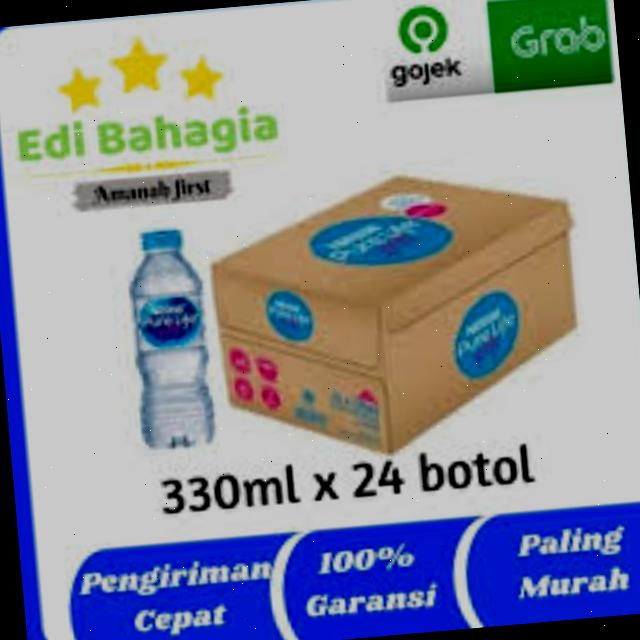trash: (124, 223, 216, 455)
